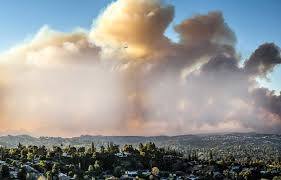smoke: (1, 32, 280, 135)
